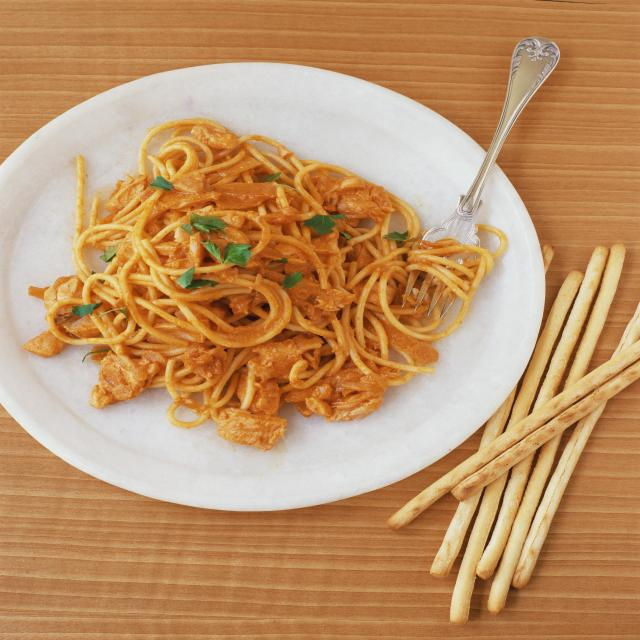pasta: (21, 119, 506, 455)
